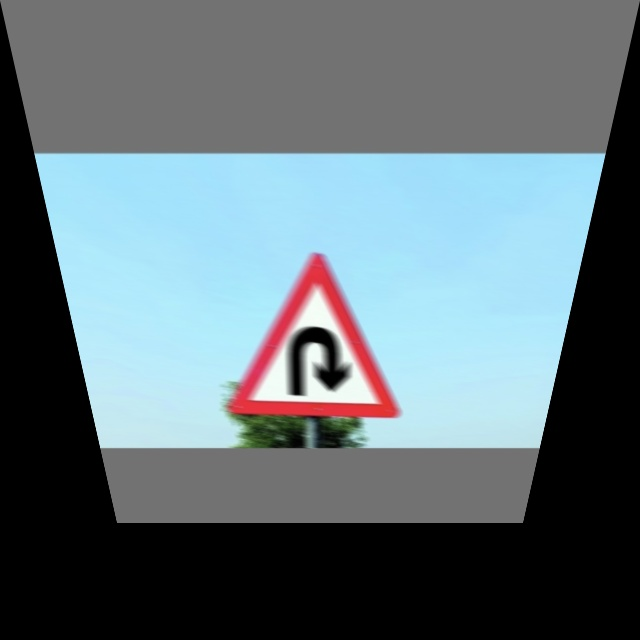Right_Hair_Pin_Bend: (221, 251, 415, 416)
